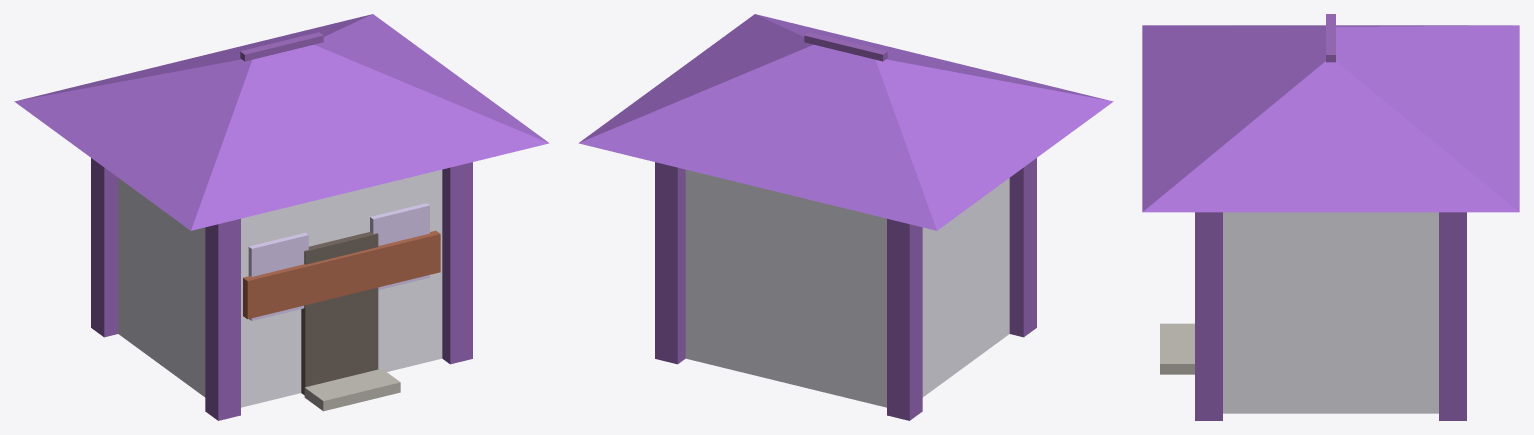
File: shop.glb
3 renders of one model, left to right at view 1: azimuth 30°, elevation 25°; view 2: azimuth 150°, elevation 25°; view 3: azimuth 270°, elevation 25°, orthographic. The views are drawn at different scales.
Bounding box in the file's own units: 4.42 × 3.53 × 3.77.
